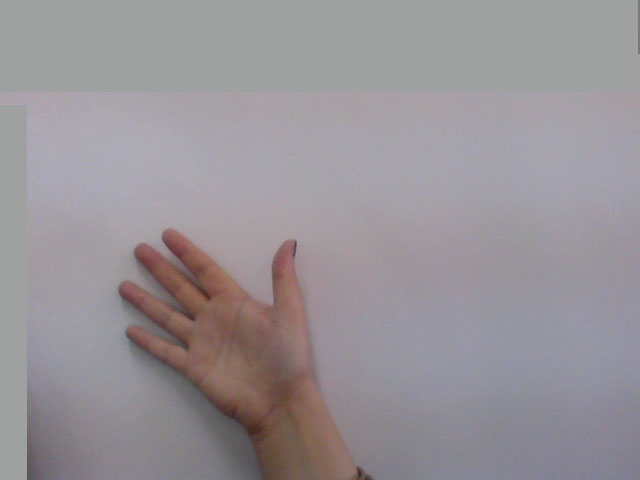hand: (99, 222, 318, 409)
